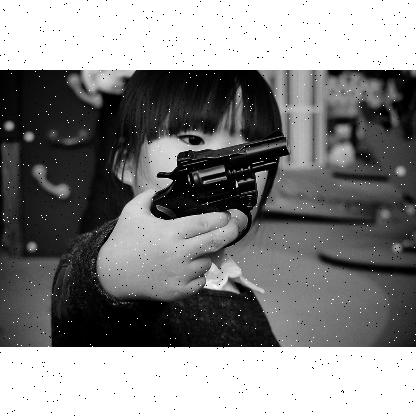gun: (150, 127, 290, 247)
